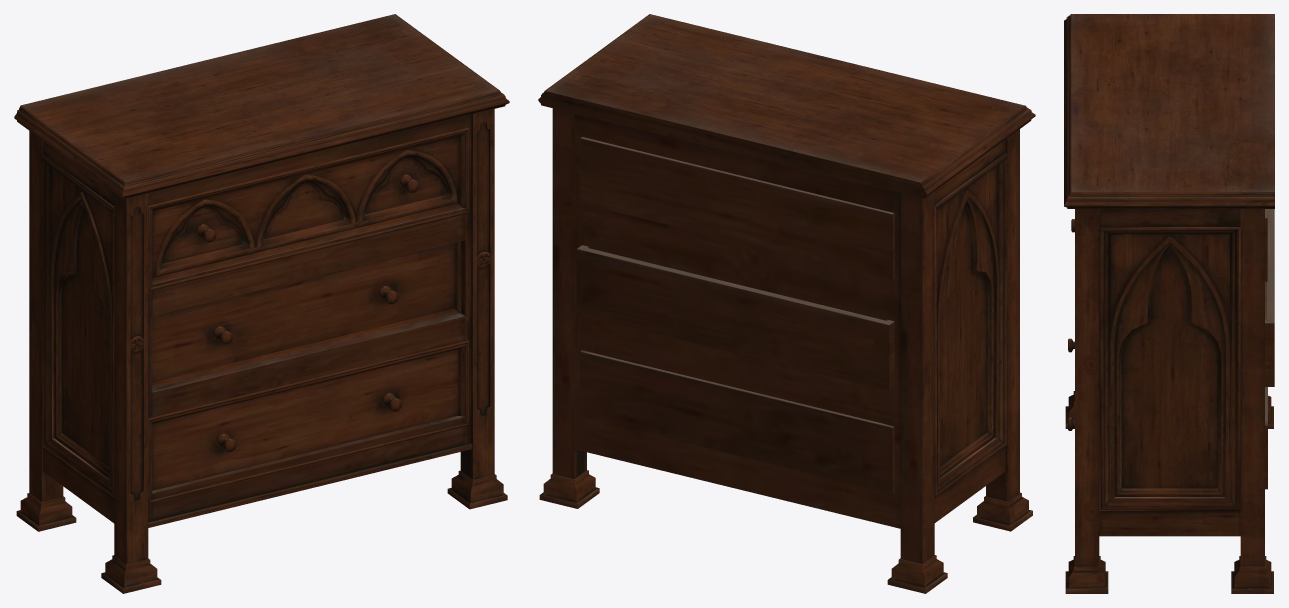
File: GothicCommode_01.glb
The picture shows the model from 3 angles, left to right: view 1: azimuth 30°, elevation 25°; view 2: azimuth 150°, elevation 25°; view 3: azimuth 270°, elevation 25°; orthographic projection. The views are drawn at different scales.
Parts seen in each view (by area): view 1: GothicCommode_01; view 2: GothicCommode_01; view 3: GothicCommode_01.
Boxes of the visible parts, x1=… form: GothicCommode_01: x1=14, y1=14, x2=509, y2=593; GothicCommode_01: x1=538, y1=14, x2=1035, y2=593; GothicCommode_01: x1=1064, y1=14, x2=1274, y2=593.
Bounding box in the file's own units: 1.2 × 1.21 × 0.5807.
1 material, 1 textured.
